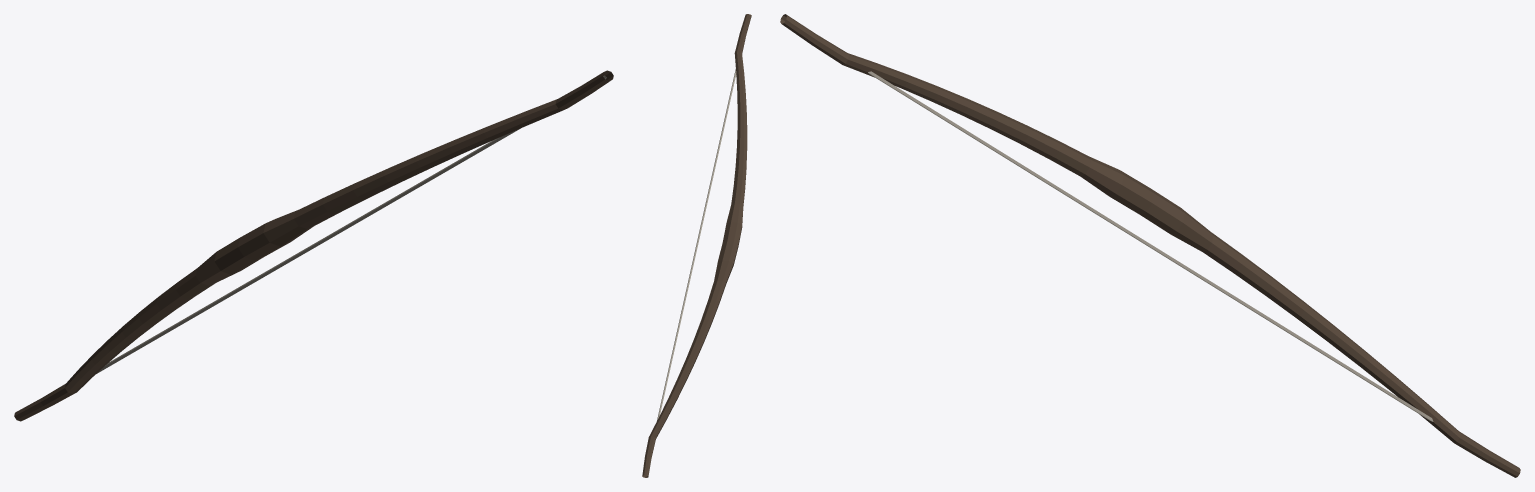
File: weapon_bow.glb
3 renders of one model, left to right at view 1: azimuth 30°, elevation 25°; view 2: azimuth 150°, elevation 25°; view 3: azimuth 270°, elevation 25°, orthographic. The views are drawn at different scales.
Parts seen in each view (by area): view 1: bow; view 2: bow; view 3: bow.
Part boxes in pixels (bbox=[...]): bow: bbox=[14, 70, 613, 421]; bow: bbox=[642, 14, 751, 477]; bow: bbox=[780, 14, 1520, 477].
Bounding box in the file's own units: 0.3349 × 0.9361 × 1.15.
